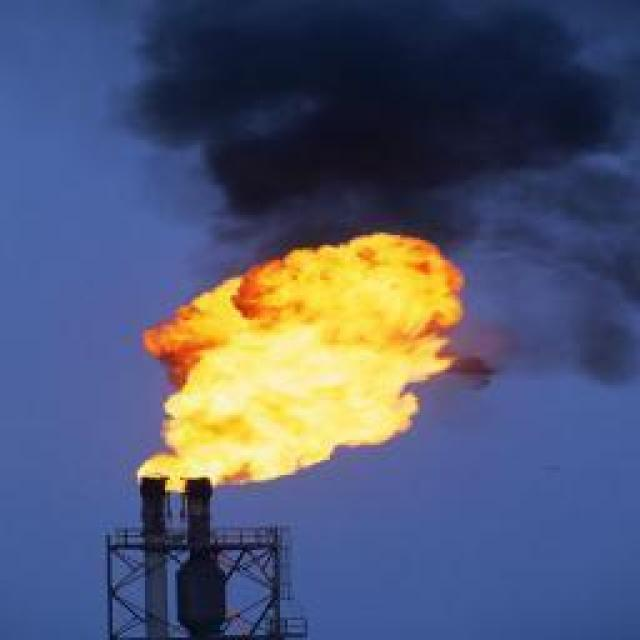fire: (137, 233, 465, 493)
smoke: (100, 0, 639, 377)
